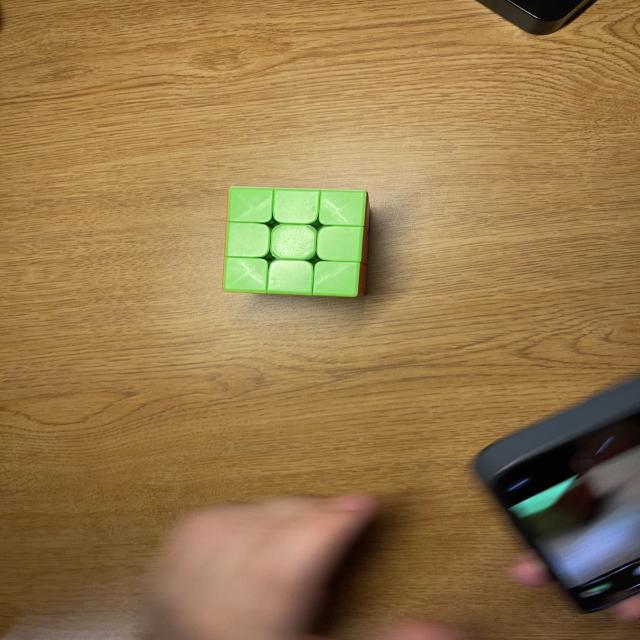Rubiks Cube: (223, 186, 367, 295)
